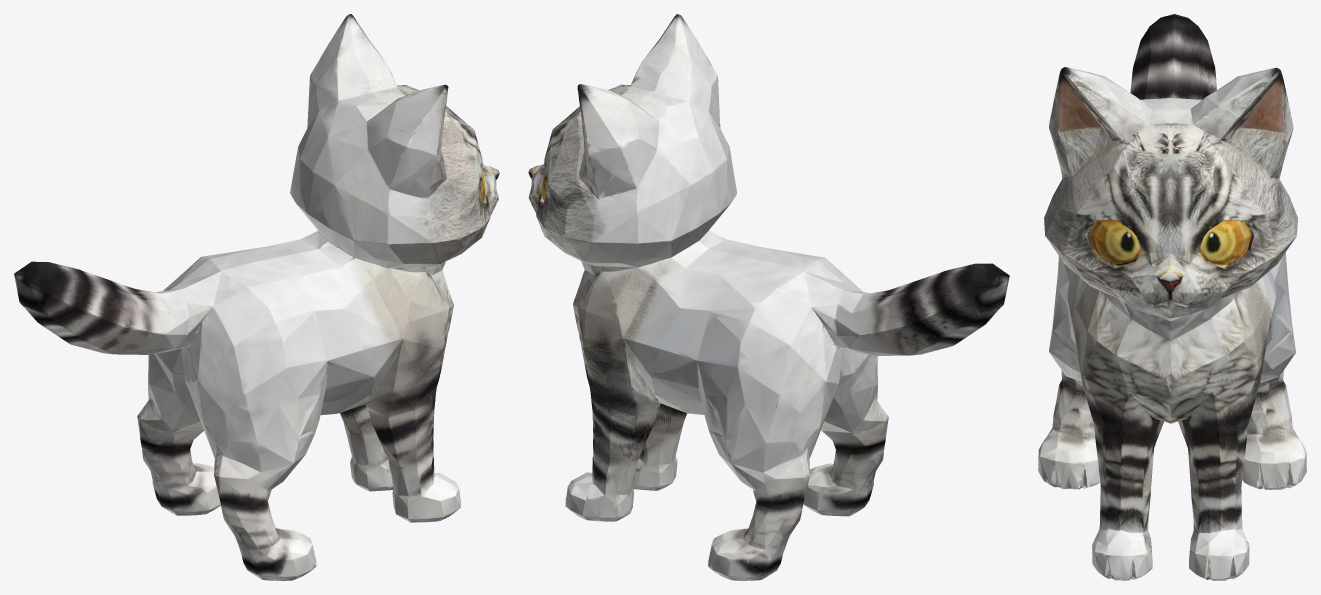
File: WAYBILL.glb
The picture shows the model from 3 angles, left to right: view 1: azimuth 30°, elevation 25°; view 2: azimuth 150°, elevation 25°; view 3: azimuth 270°, elevation 25°; orthographic projection. The views are drawn at different scales.
Parts seen in each view (by area): view 1: fit; view 2: fit; view 3: fit.
Boxes of the visible parts, <box> form: fit: <box>14,14,499,580</box>; fit: <box>528,14,1009,580</box>; fit: <box>1038,14,1306,580</box>.
Bounding box in the file's own units: 1.12 × 1 × 0.4895.
Materials: 1 (1 with a texture image).
